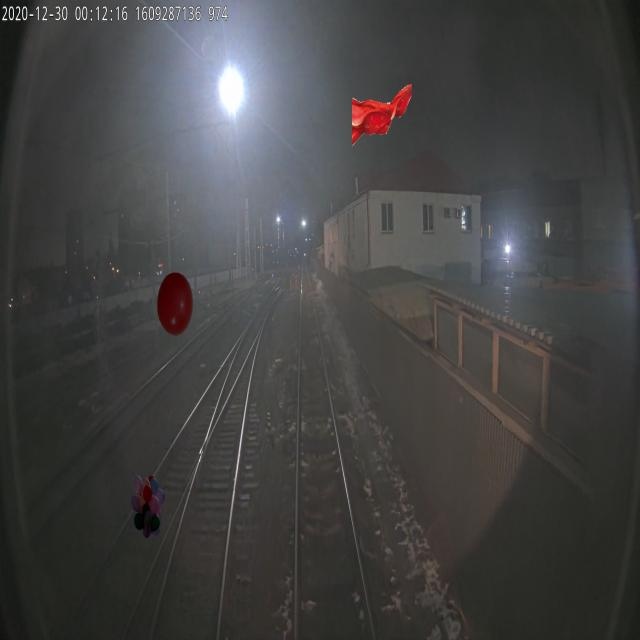balloon: (157, 272, 193, 336), (131, 474, 165, 538)
floating object: (352, 82, 412, 146)
